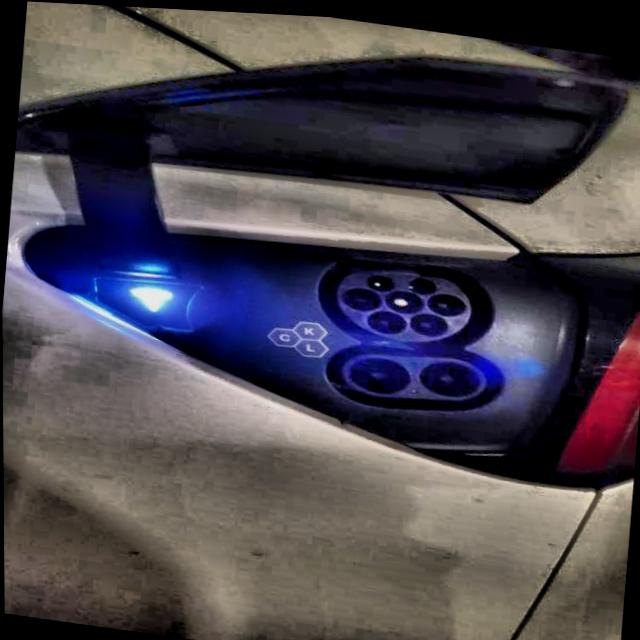inlet: (337, 265, 470, 336)
inlet-above-left: (366, 271, 393, 287)
inlet-above-right: (408, 274, 435, 289)
inlet-below-left: (366, 306, 406, 329)
inlet-below-right: (409, 308, 447, 332)
inlet-center: (383, 286, 424, 309)
inlet-center-left: (341, 283, 381, 307)
inlet-center-right: (426, 289, 465, 312)
